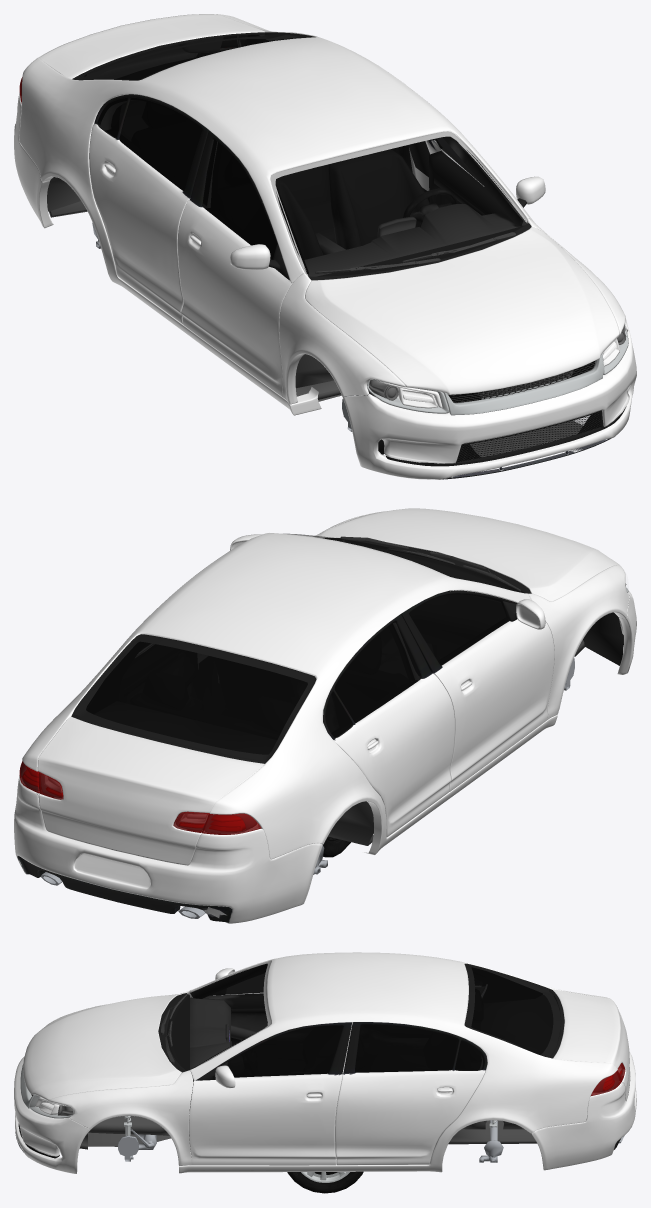
File: sedan.glb
The picture shows the model from 3 angles, top to bottom: view 1: azimuth 30°, elevation 25°; view 2: azimuth 150°, elevation 25°; view 3: azimuth 270°, elevation 25°; orthographic projection. The views are drawn at different scales.
Visible parts, largest first — view 1: lod0; view 2: lod0; view 3: lod0, wheel_lod0.
Part boxes in pixels (x1,y1,x2,y2): lod0: (14,14,636,479); lod0: (14,508,636,923); lod0: (14,952,636,1173); wheel_lod0: (287,1171,363,1193).
Size of what is drawn, in the model's own units: 2.1 by 1.84 by 4.98.
25 materials, 7 textured.
